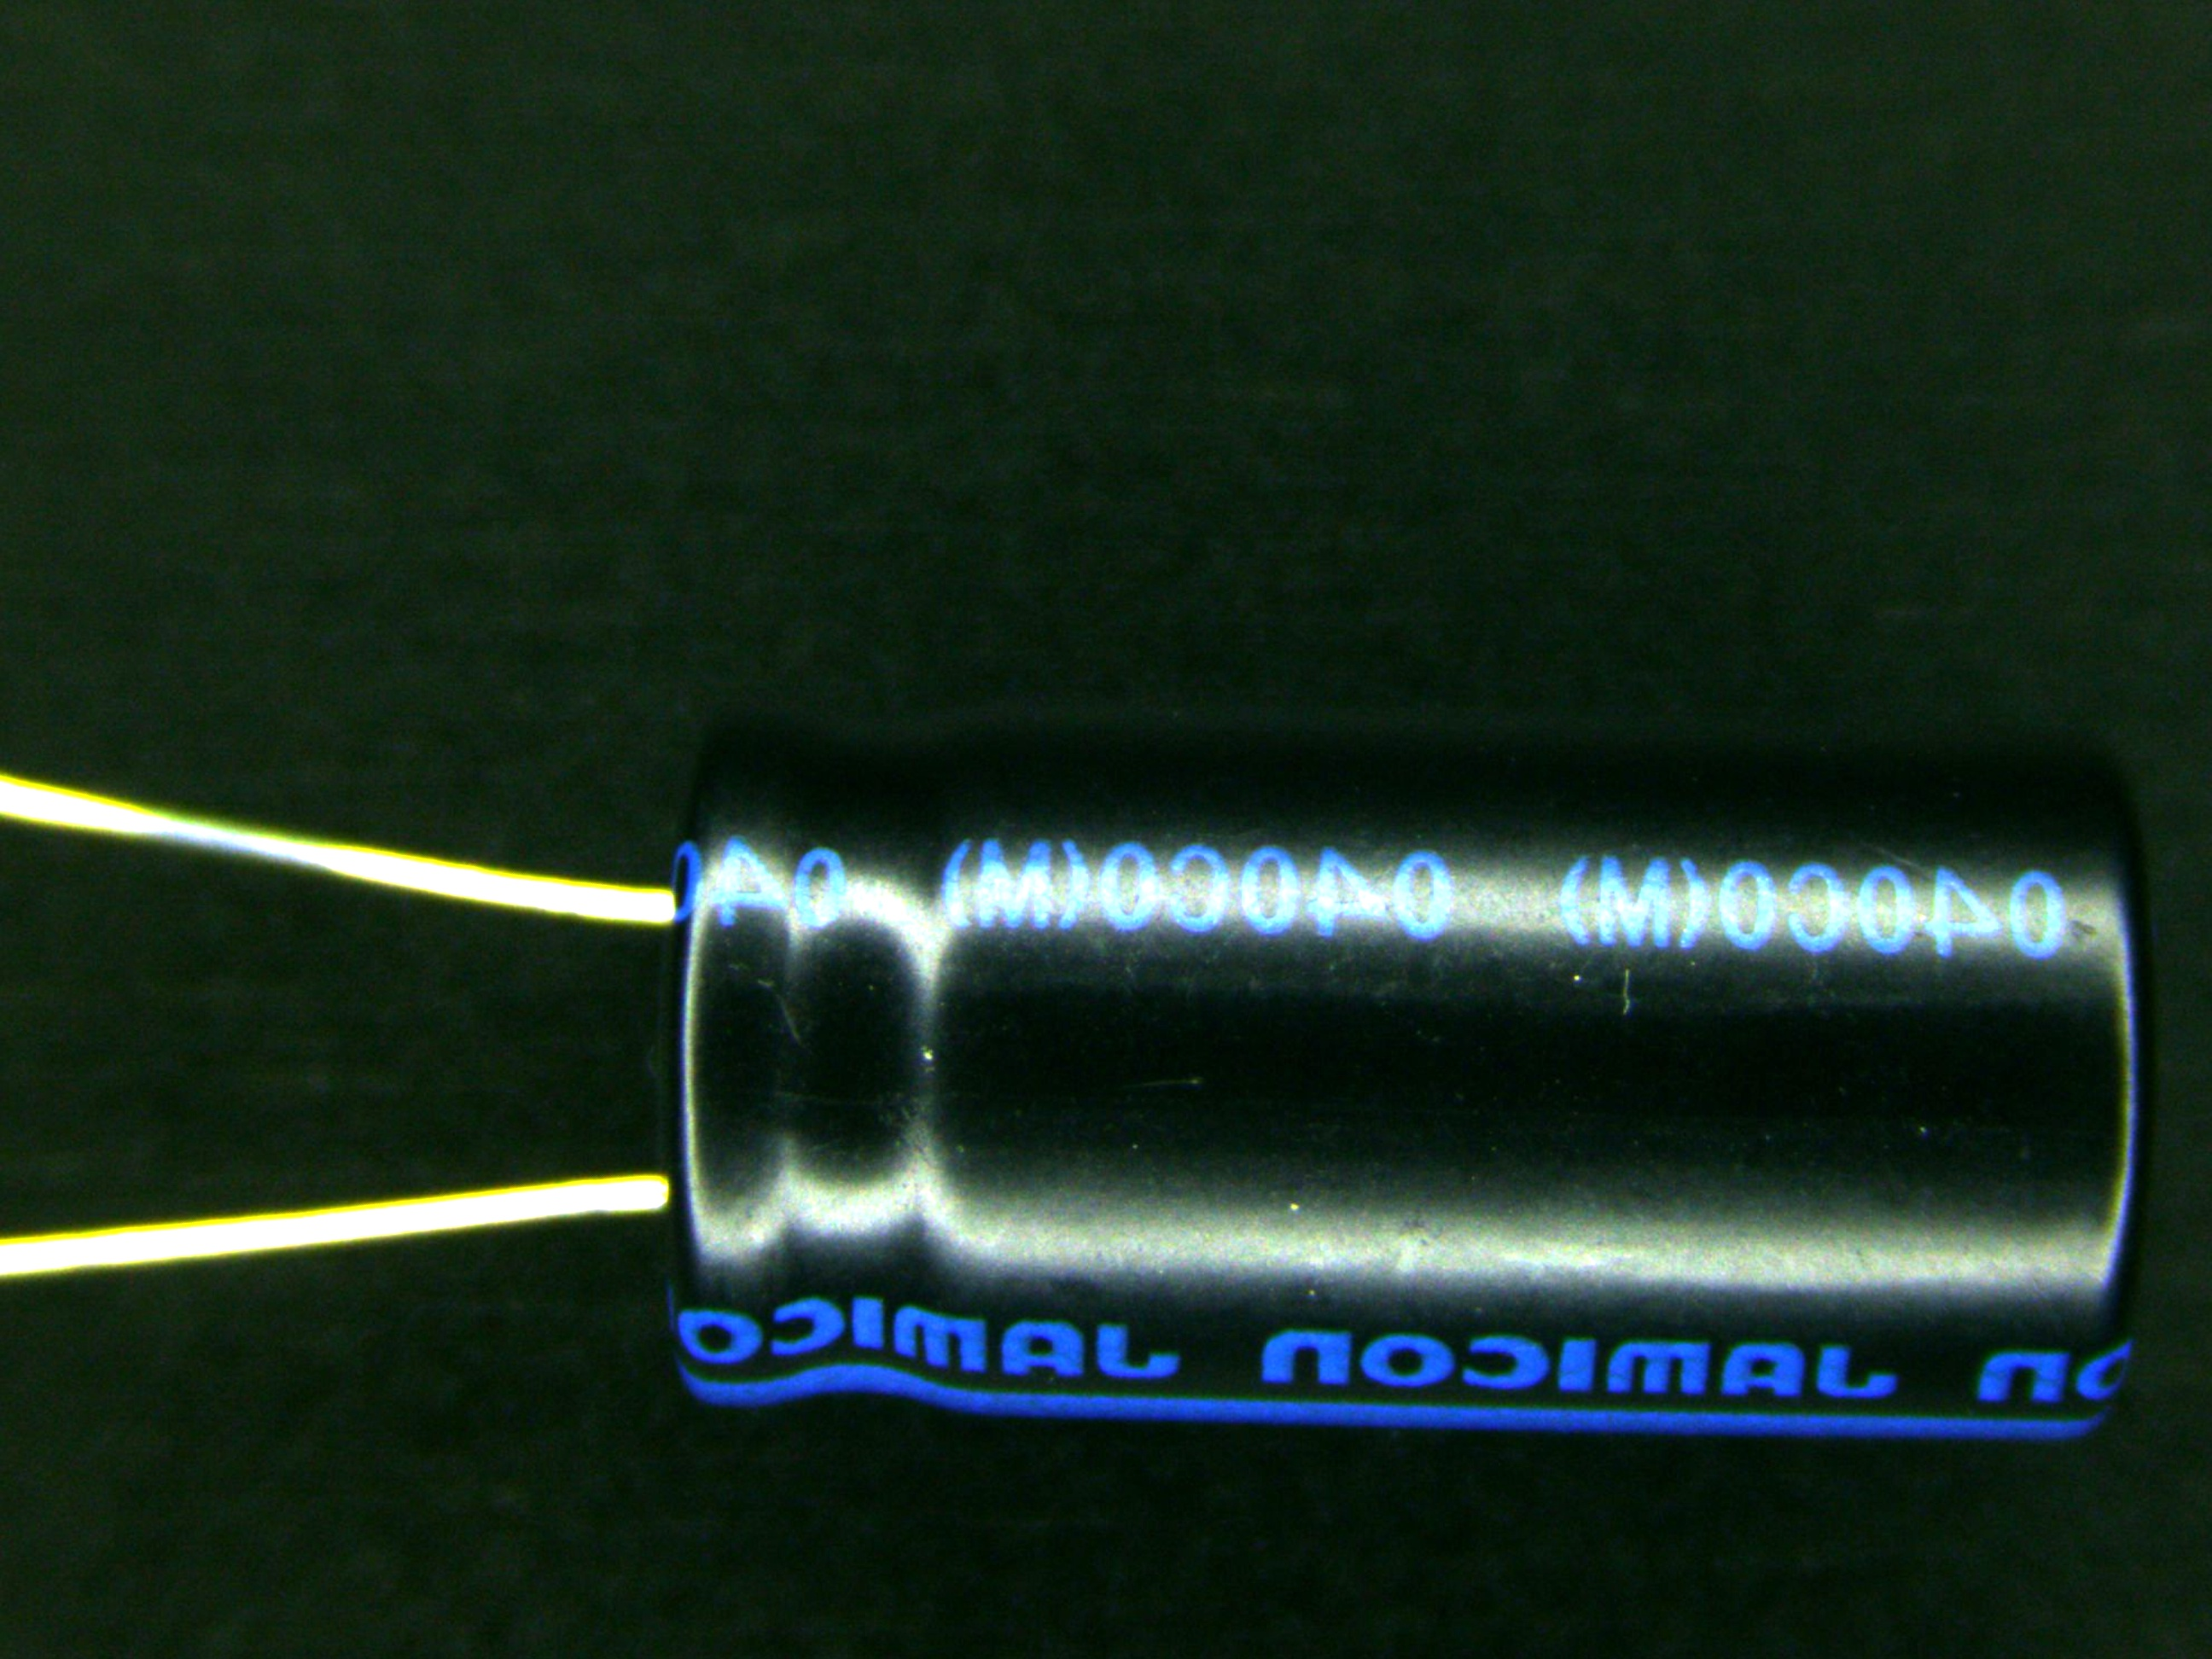c2: (469, 756, 2160, 1443)
